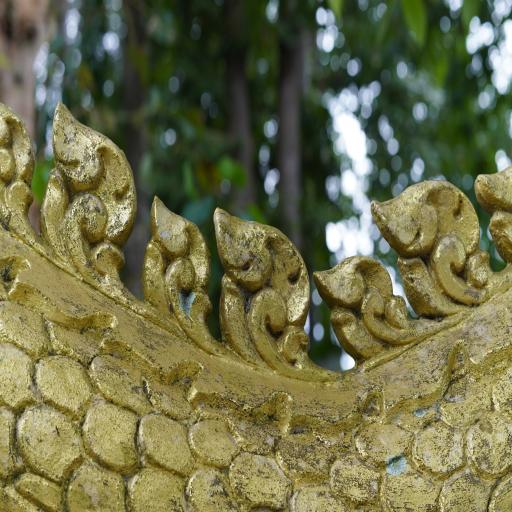la: (33, 82, 136, 301), (203, 191, 312, 382), (371, 159, 482, 343), (307, 240, 416, 375), (130, 170, 211, 342), (0, 98, 38, 258), (474, 159, 512, 274)
